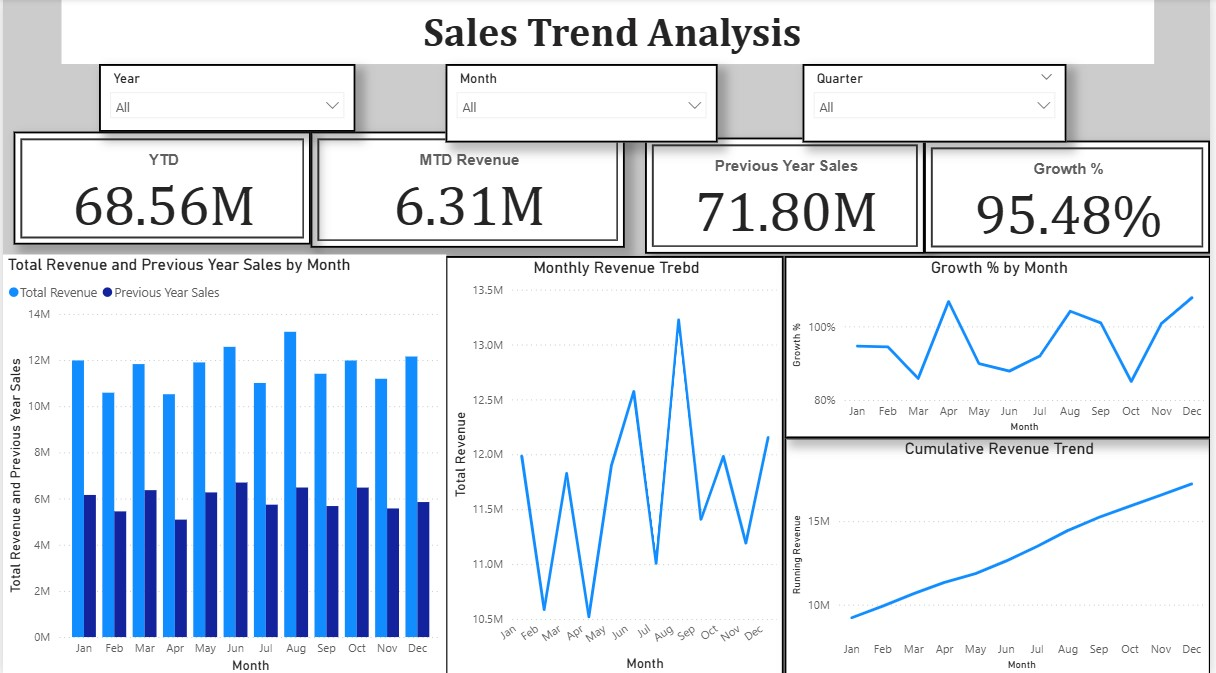

The page's visual inventory and layout, read from the dashboard file:
{"tool":"powerbi","page":{"name":"Sales Trend Analysis","canvas":[1280,720],"ordinal":3},"visuals":[{"type":"cardVisual","fields":{"Data":["Fact_Sales.Previous Year Sales"]},"box":[680,148.3,296.7,123.3],"z":0},{"type":"cardVisual","fields":{"Data":["Fact_Sales.MTD Revenue"]},"box":[326.7,141.7,333.3,123.3],"z":1000},{"type":"cardVisual","fields":{"Data":["Fact_Sales.YTD"]},"box":[11.7,141.7,315,120],"z":2000},{"type":"cardVisual","fields":{"Data":["Fact_Sales.Growth %"]},"box":[976.7,151.7,303.3,120],"z":3000},{"type":"lineChart","title":"Monthly Revenue Trebd ","fields":{"Y":["Fact_Sales.Total Revenue"],"Category":["Date Table.Month"]},"box":[470,273.3,358.3,446.7],"z":4000},{"type":"textbox","box":[62.4,0,1158.4,69.9],"z":5000},{"type":"lineChart","title":"Cumulative Revenue Trend","fields":{"Category":["Date Table.Month"],"Y":["Fact_Sales.Running Revenue"]},"box":[828.3,466.7,451.7,253.3],"z":6000},{"type":"lineChart","fields":{"Y":["Fact_Sales.Growth %"],"Category":["Date Table.Month"]},"box":[828.3,273.3,451.7,193.3],"z":7000},{"type":"slicer","fields":{"Values":["Date Table.Year"]},"box":[101.7,70,271.7,71.7],"z":8000},{"type":"slicer","fields":{"Values":["Date Table.Month"]},"box":[470,70,288.3,83.3],"z":9000},{"type":"clusteredColumnChart","fields":{"Y":["Fact_Sales.Total Revenue","Fact_Sales.Previous Year Sales"],"Category":["Date Table.Month"]},"box":[0,271.7,470,448.3],"z":10000},{"type":"slicer","fields":{"Values":["Date Table.Quarter"]},"box":[848.3,70,280,83.3],"z":11000}]}

Visuals, with their boxes in screenshot pixels (x1, y1, x2, y2), scaled from the page's 1280x720 canvas onto the 1216x673 screenshot:
cardVisual - Fact_Sales.Previous Year Sales: <region>646, 139, 928, 254</region>
cardVisual - Fact_Sales.MTD Revenue: <region>310, 132, 627, 248</region>
cardVisual - Fact_Sales.YTD: <region>11, 132, 310, 245</region>
cardVisual - Fact_Sales.Growth %: <region>928, 142, 1215, 254</region>
"Monthly Revenue Trebd " lineChart: <region>446, 255, 787, 672</region>
textbox: <region>59, 0, 1160, 65</region>
"Cumulative Revenue Trend" lineChart: <region>787, 436, 1215, 672</region>
lineChart - Fact_Sales.Growth % x Date Table.Month: <region>787, 255, 1215, 436</region>
slicer - Date Table.Year: <region>97, 65, 355, 132</region>
slicer - Date Table.Month: <region>446, 65, 720, 143</region>
clusteredColumnChart - Fact_Sales.Total Revenue x Fact_Sales.Previous Year Sales: <region>0, 254, 446, 672</region>
slicer - Date Table.Quarter: <region>806, 65, 1072, 143</region>
